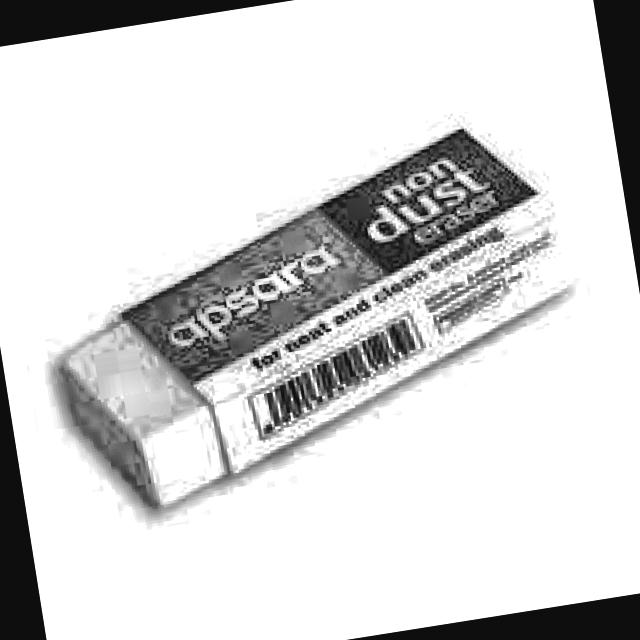eraser: (14, 99, 600, 528)
